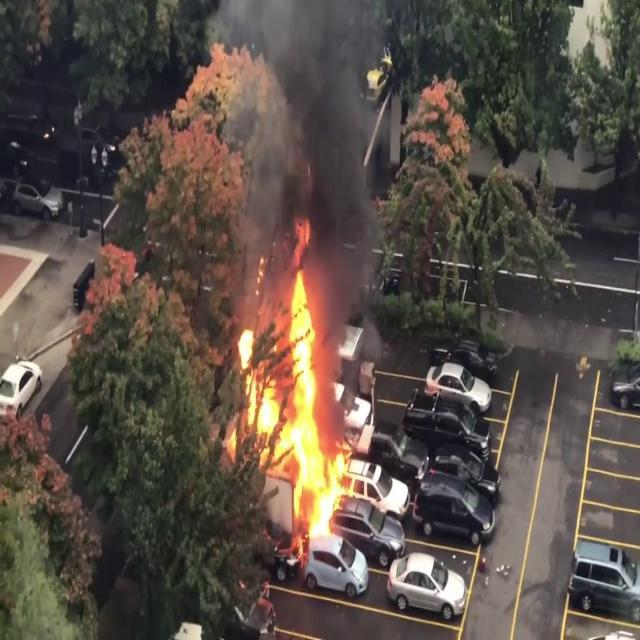Fire: (228, 242, 354, 552)
Smoke: (234, 0, 394, 291)
